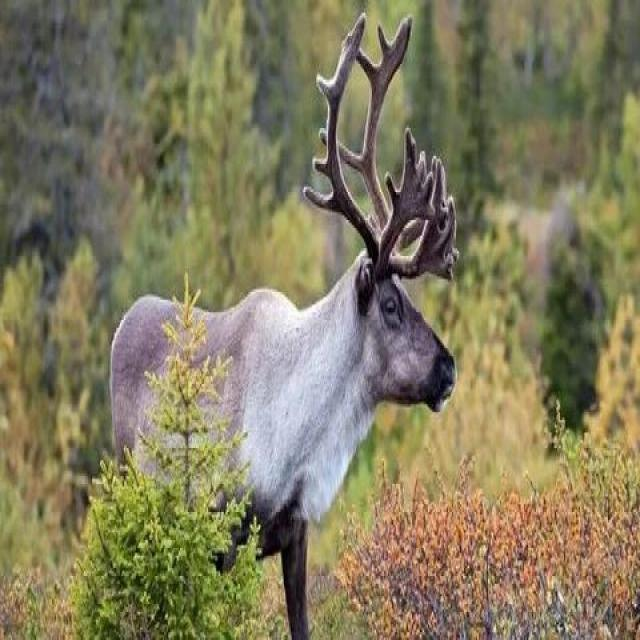deer: (102, 93, 436, 512)
